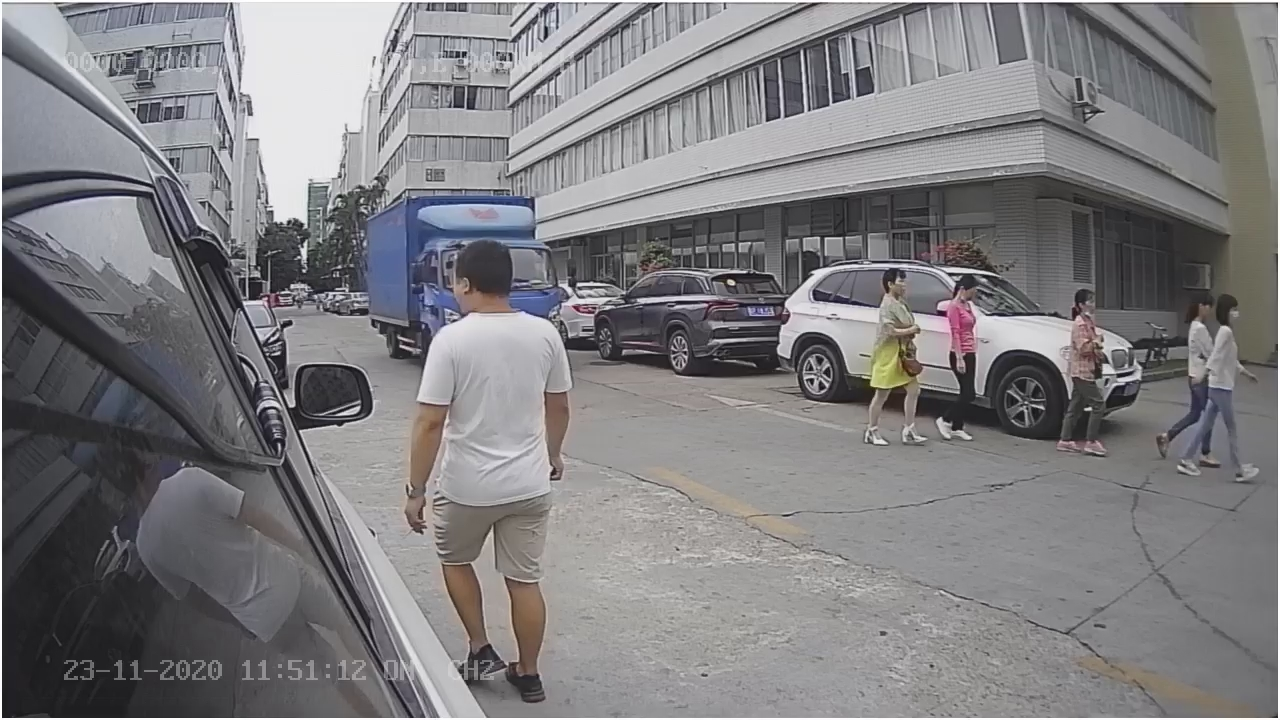person: (393, 240, 597, 535), (859, 263, 929, 448), (1053, 285, 1122, 455)
